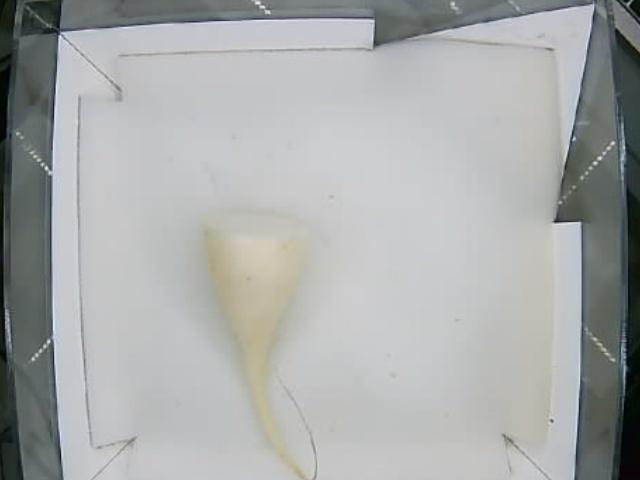Mooli: (204, 208, 317, 360)
